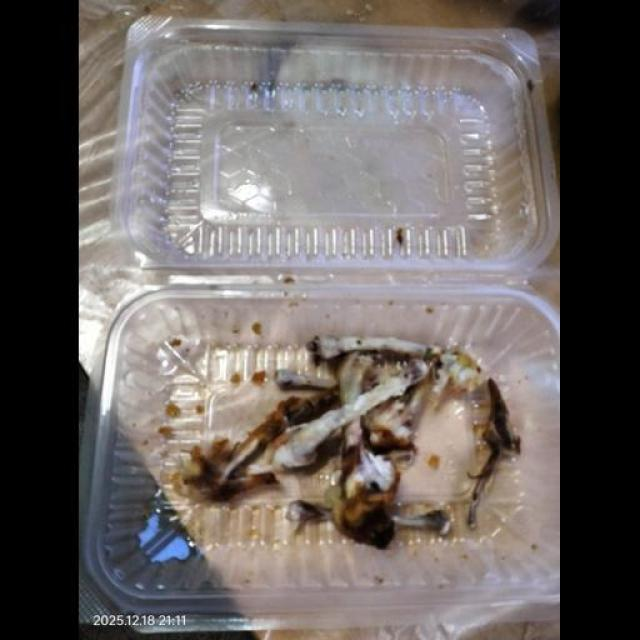organic: (229, 309, 523, 581)
